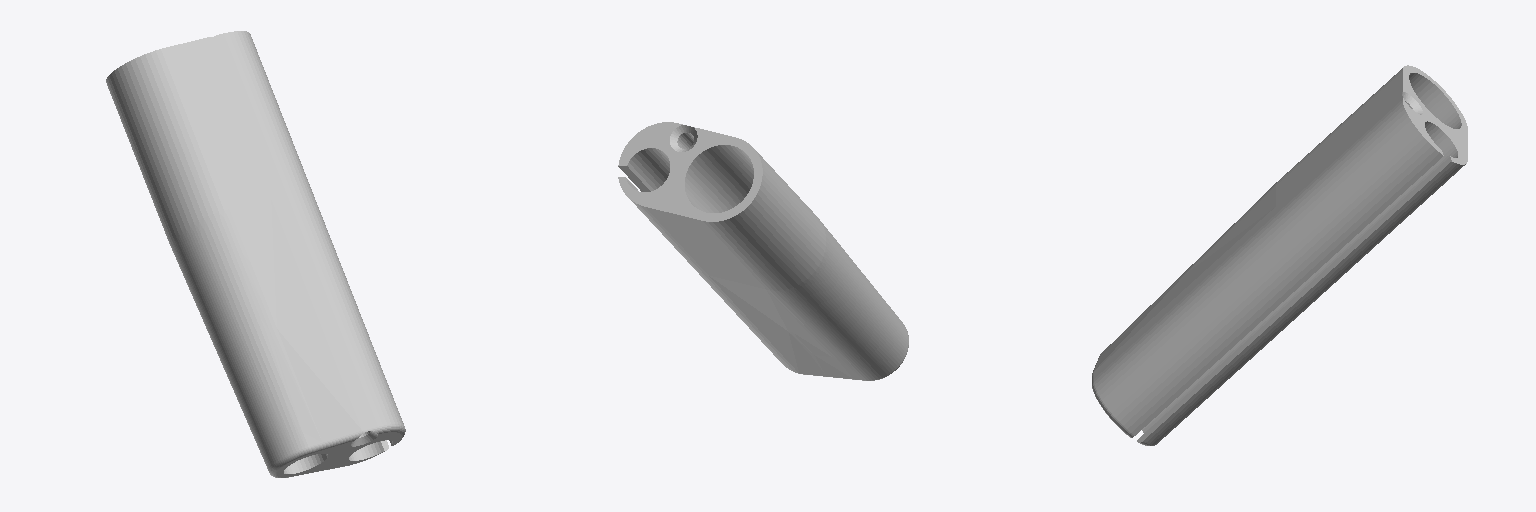
Rendered from [TPU] Adapter 6mm to 4mm Right.obj.
The picture shows the model from 3 angles: view 1: azimuth 30°, elevation 25°; view 2: azimuth 150°, elevation 25°; view 3: azimuth 270°, elevation 25°; orthographic projection.
Parts seen in each view (by area): view 1: [TPU] Adapter 6mm to 4mm Right; view 2: [TPU] Adapter 6mm to 4mm Right; view 3: [TPU] Adapter 6mm to 4mm Right.
Part boxes in pixels (x1,y1,x2,y2): [TPU] Adapter 6mm to 4mm Right: (106,31,405,477); [TPU] Adapter 6mm to 4mm Right: (618,122,908,380); [TPU] Adapter 6mm to 4mm Right: (1092,65,1467,445).
Bounding box in the file's own units: 13.35 × 31.44 × 31.44.